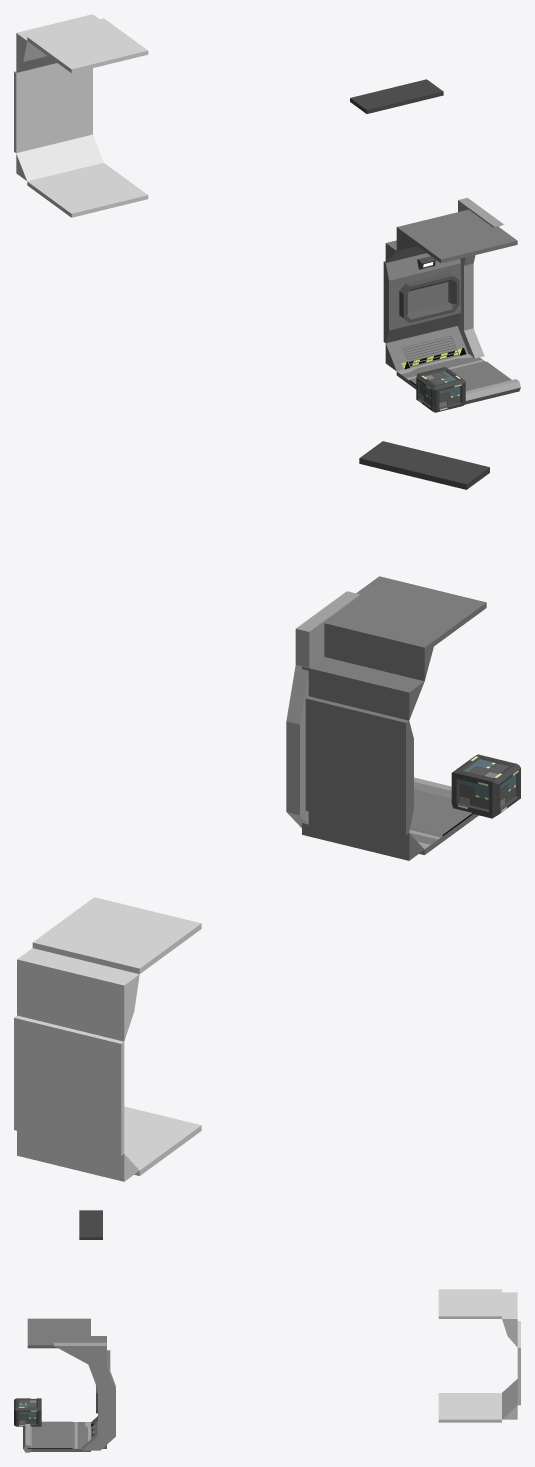
Rendered from Ceiling.glb.
3 views of the same model, one above another, from view 1: azimuth 30°, elevation 25°; view 2: azimuth 150°, elevation 25°; view 3: azimuth 270°, elevation 25° (orthographic). The views are drawn at different scales.
Parts seen in each view (by area): view 1: Plane.011, Ceiling, Plane.014, Plane.013, Wall_Plain, Plane.012, Wall_Terminal, FootStop_Caution, Floor_L, Box, Light_Ceiling, Plane.015 (+6 smaller); view 2: Plane.011, Wall_Plain, Ceiling, Plane.015, Plane.013, Ceiling_Joinery, Box, Light_Ceiling, Plane.014, Plane.012, Pillar, FootStop_Caution (+3 smaller); view 3: Plane.013, Plane.014, Ceiling, Floor_L, Pillar, PillarCap, Box, Plane.015, Light_Ceiling, Plane.012, Plane.011.
Boxes of the visible parts, <box> form: Plane.011: <box>14,63,92,153</box>; Ceiling: <box>396,209,517,263</box>; Plane.014: <box>27,163,148,217</box>; Plane.013: <box>27,18,148,73</box>; Wall_Plain: <box>383,253,460,343</box>; Plane.012: <box>16,134,103,181</box>; Wall_Terminal: <box>399,273,459,322</box>; FootStop_Caution: <box>385,326,468,371</box>; Floor_L: <box>396,354,511,390</box>; Box: <box>416,367,465,412</box>; Light_Ceiling: <box>350,79,443,113</box>; Plane.015: <box>16,14,99,72</box>; Plane.011: <box>14,1015,124,1155</box>; Wall_Plain: <box>305,696,413,834</box>; Ceiling: <box>324,576,486,681</box>; Plane.015: <box>17,948,139,1041</box>; Plane.013: <box>32,897,201,974</box>; Ceiling_Joinery: <box>302,657,424,720</box>; Box: <box>451,754,520,818</box>; Light_Ceiling: <box>359,441,489,489</box>; Plane.014: <box>124,1106,201,1175</box>; Plane.012: <box>17,1130,139,1181</box>; Pillar: <box>286,665,308,827</box>; FootStop_Caution: <box>302,811,423,860</box>; Plane.013: <box>438,1289,501,1318</box>; Plane.014: <box>438,1393,501,1422</box>; Ceiling: <box>27,1318,90,1348</box>; Floor_L: <box>27,1421,90,1451</box>; Pillar: <box>82,1363,115,1450</box>; PillarCap: <box>54,1342,106,1364</box>; Box: <box>14,1398,41,1426</box>; Plane.015: <box>502,1292,517,1346</box>; Light_Ceiling: <box>79,1210,102,1239</box>; Plane.012: <box>502,1379,517,1419</box>; Plane.011: <box>517,1321,520,1405</box>.
Bounding box in the file's own units: 4.29 × 7.02 × 15.98.
1 material, 1 textured.
